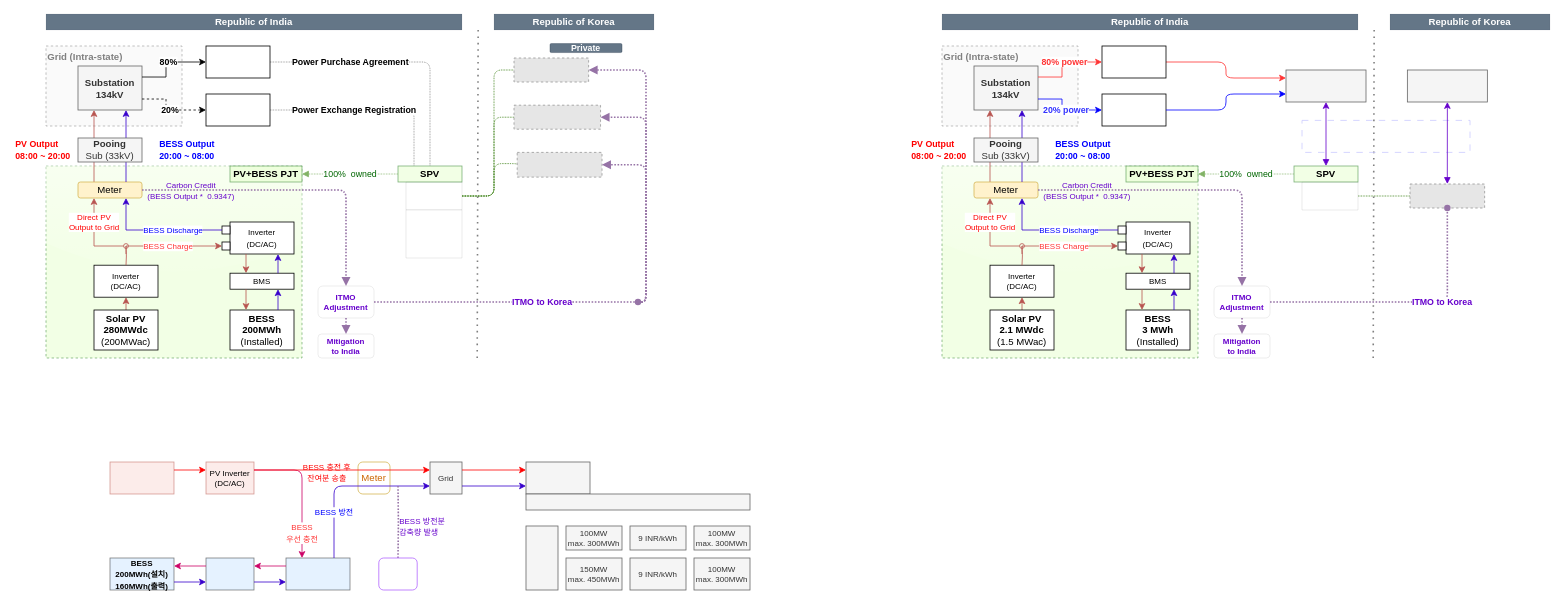
Image size: 1563x605. Some labels were removed from this diagram. Grey dashed boxes stand in for pictures. Each missing label, with the centre of its shape:
"250MW" belongs at [541,557].
"BESS Output peak time" belongs at [1133,109].
"Bidirectional Inverter (DC/AC)" belongs at [317,573].
"BMS (충방전량)" belongs at [229,573].
"Debt 70%" belongs at [434,234].
"Equity 100%" belongs at [1330,196].
"Equity 30%" belongs at [434,196].
"ITMO Offtaker" belongs at [1447,85].
"MSEDCL 250 MW RE with storage Maharashtra Aug 2022" belongs at [637,501].
"PPA (including ITMO transfer)" belongs at [1385,136].
"Project 감축량" belongs at [397,573].
"PV Output day time" belongs at [1133,61].
"Renewable Offtaker" belongs at [1325,85].
"Solar PV 140MWdc(설치) 100MWac(출력)" belongs at [141,477].
"공개입찰" belongs at [557,477].
"정부공개입찰 (고정단가)" belongs at [237,61].
"현물시장 (변동단가)" belongs at [237,109].
